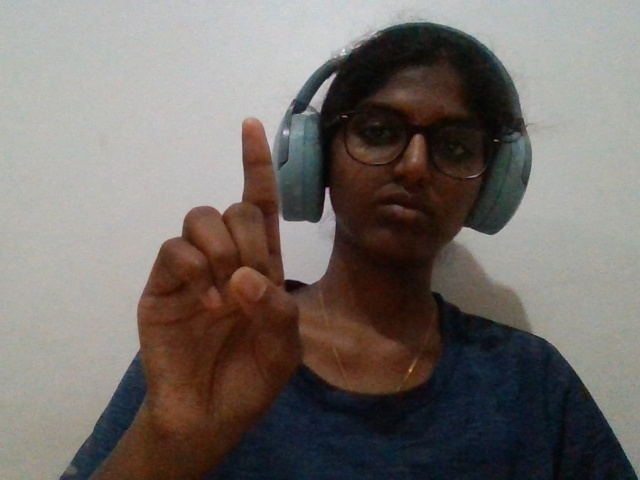D: (107, 103, 325, 477)
